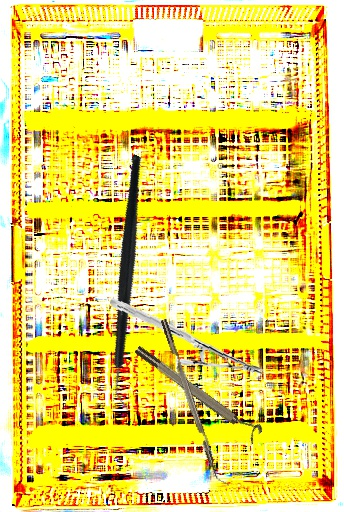Chopper: (34, 154, 228, 412), (160, 316, 230, 490)
Fixation Ring: (132, 338, 265, 445)
Needle Holder: (110, 287, 264, 387)
